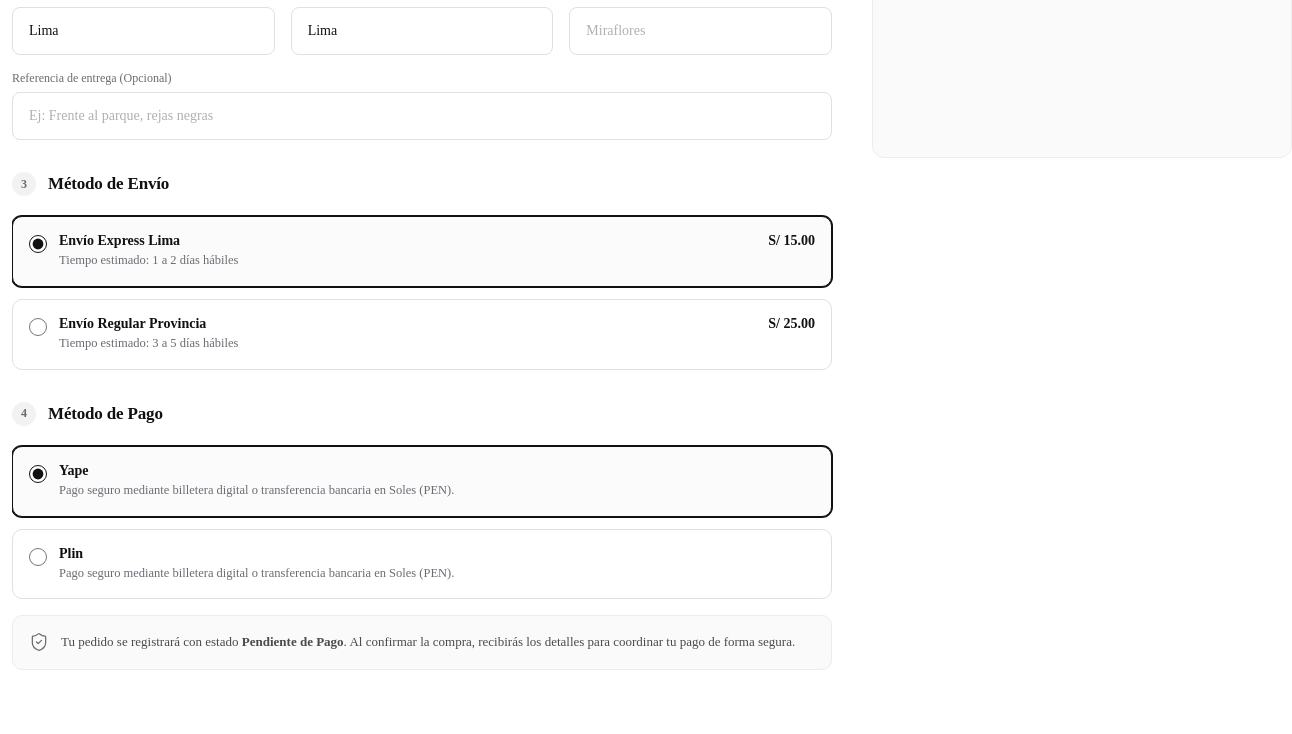
Test case: GP-018 / CHK6-BR3 — Explicit Selection & Fail-Closed Checkout Suite › 1. Checkout Form Rendering & Basic Behavior › updates total dynamically when a different shipping method is selected
The width and height of the screenshot is (1292, 734).
(page scrolled)
Click the label with test id "shipping-method-PROVINCIA_REGULAR": coordinates (133, 324) [12,299,832,370]
(page scrolled)
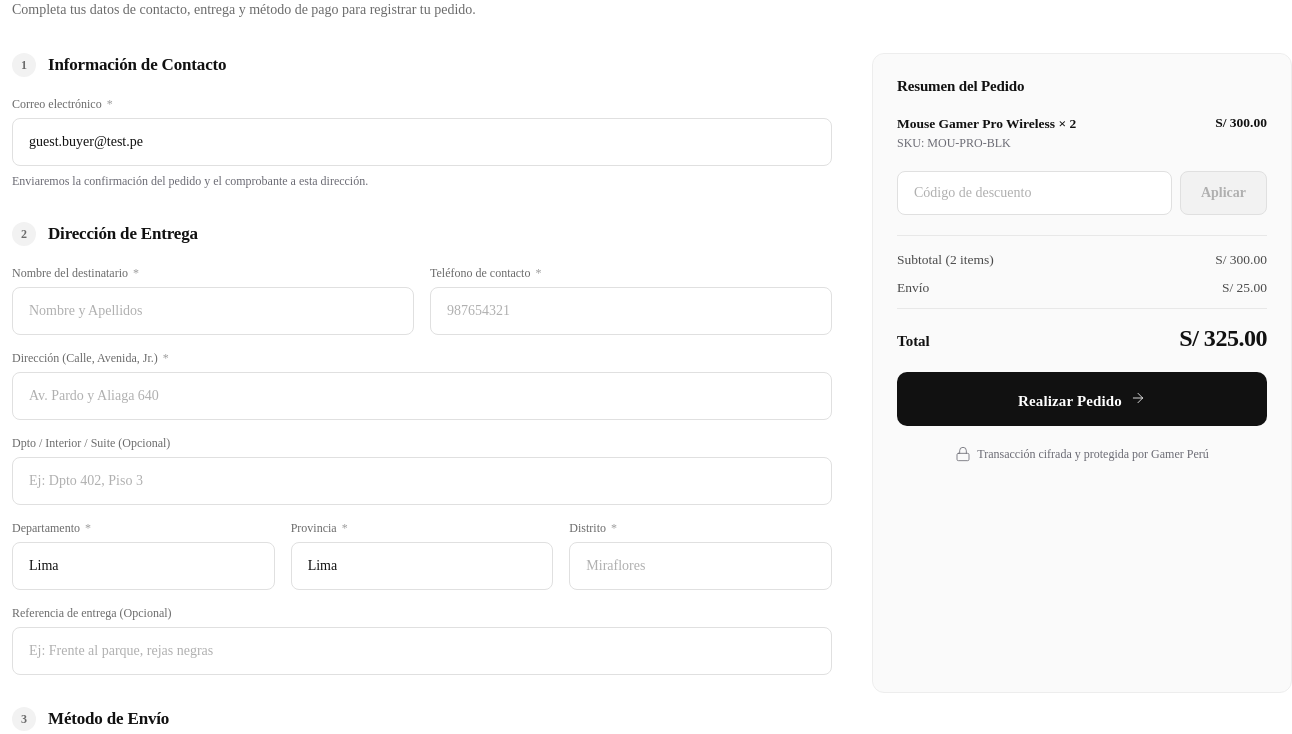
Expected: the text with test id "checkout-shipping-value" shows "25.00", [1222,280,1267,295]
Expected: the text with test id "checkout-total-value" shows "325.00", [1179,325,1267,351]
